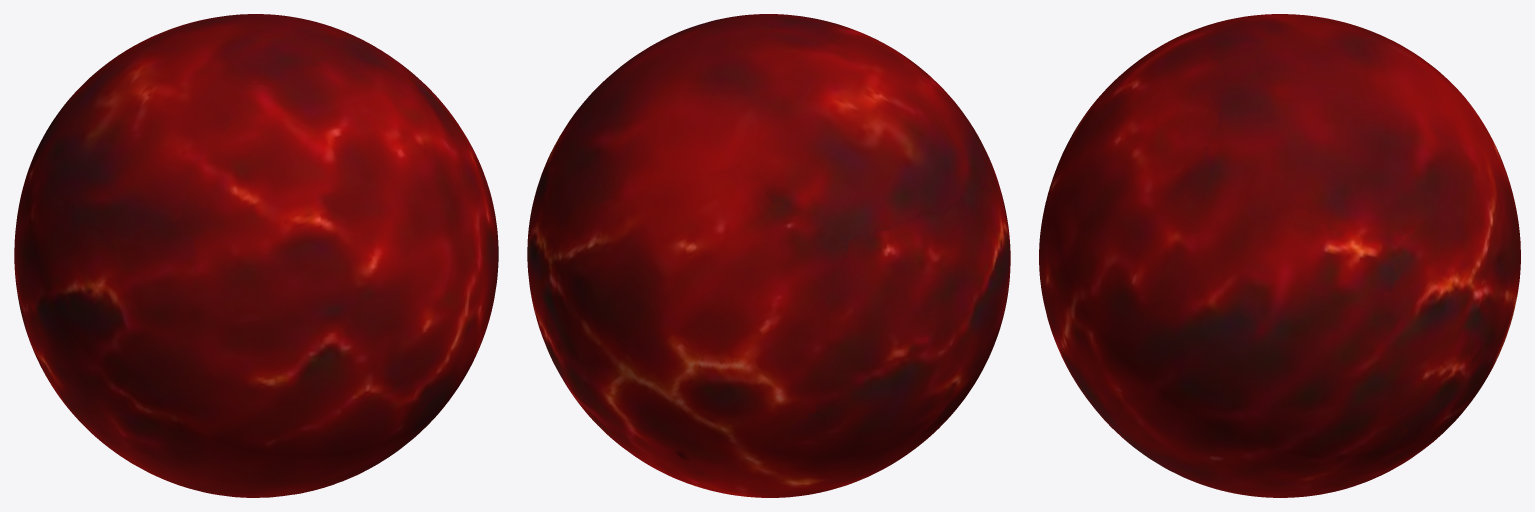
The model's file is ember.glb.
3 views of the same model, side by side, from view 1: azimuth 30°, elevation 25°; view 2: azimuth 150°, elevation 25°; view 3: azimuth 270°, elevation 25° (orthographic).
Parts seen in each view (by area): view 1: material; view 2: material; view 3: material.
Boxes of the visible parts, x1,y1,x2,y2 form: material: [14, 14, 498, 497]; material: [527, 14, 1010, 497]; material: [1039, 14, 1520, 497].
Size of the model in its own units: 1.19 by 1.19 by 1.18.
1 material, 1 textured.
